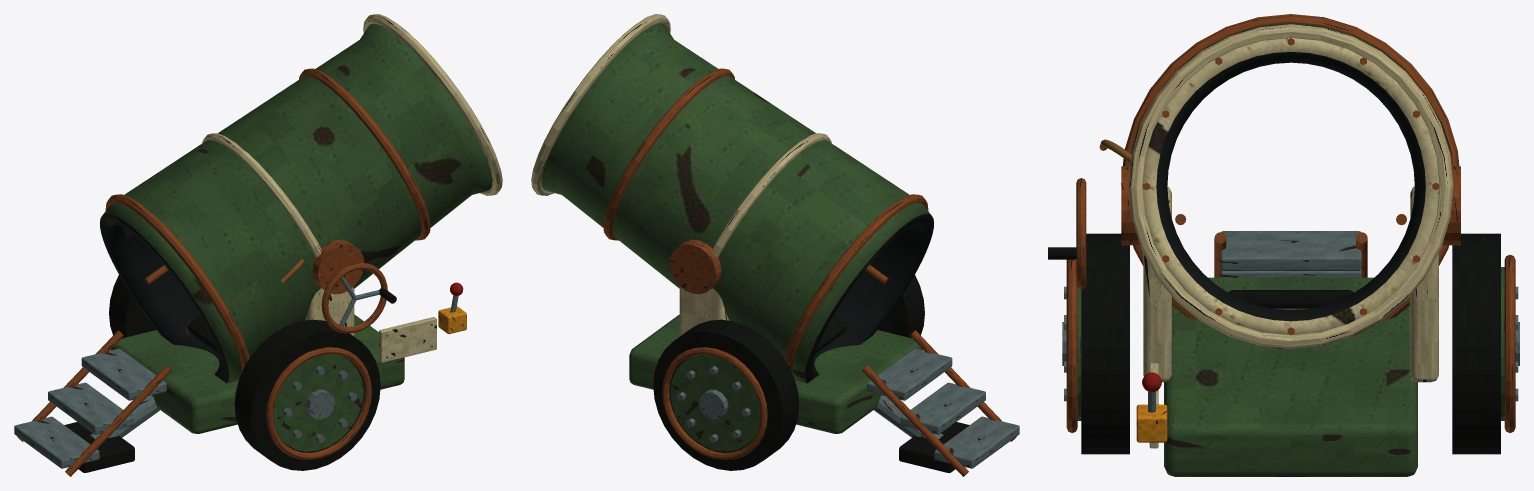
File: eq-crewcannon.glb
3 views of the same model, side by side, from view 1: azimuth 30°, elevation 25°; view 2: azimuth 150°, elevation 25°; view 3: azimuth 270°, elevation 25° (orthographic). The views are drawn at different scales.
Visible parts, largest first — view 1: Hollow cannon barrel, Rubber wheel, Carriage, Wheel plate, Barrel hoop.003, Wheel rim, Barrel hoop, Boarding step, Boarding step.001, Boarding step.002, Barrel hoop.002, Cream inset.013 (+11 smaller); view 2: Hollow cannon barrel, Carriage, Rubber wheel.001, Wheel plate.001, Barrel hoop.003, Wheel rim.001, Barrel hoop, Boarding step, Boarding step.001, Boarding step.002, Barrel hoop.002, Elevation axle.001 (+8 smaller); view 3: Carriage, Hollow cannon barrel, Barrel hoop.003, Rubber wheel.001, Rubber wheel, Boarding step.002, Barrel hoop, Trunnion support.001, Trunnion support, Wheel rim.001, Wheel rim, Passenger padding.002 (+7 smaller).
Boxes of the visible parts, x1,y1,x2,y2 form: Hollow cannon barrel: [100, 23, 492, 383]; Rubber wheel: [234, 319, 380, 470]; Carriage: [110, 314, 404, 433]; Wheel plate: [273, 354, 363, 451]; Barrel hoop.003: [363, 14, 502, 195]; Wheel rim: [266, 347, 371, 459]; Barrel hoop: [105, 194, 249, 372]; Boarding step: [14, 416, 99, 468]; Boarding step.001: [48, 382, 133, 434]; Boarding step.002: [81, 348, 166, 400]; Barrel hoop.002: [299, 68, 430, 240]; Cream inset.013: [379, 317, 436, 362]; Hollow cannon barrel: [541, 23, 933, 383]; Carriage: [629, 314, 923, 433]; Rubber wheel.001: [653, 319, 799, 470]; Wheel plate.001: [670, 354, 760, 451]; Barrel hoop.003: [531, 14, 670, 195]; Wheel rim.001: [662, 347, 767, 459]; Barrel hoop: [784, 194, 928, 372]; Boarding step: [934, 416, 1019, 468]; Boarding step.001: [900, 382, 985, 434]; Boarding step.002: [867, 348, 952, 400]; Barrel hoop.002: [603, 68, 734, 240]; Elevation axle.001: [669, 239, 721, 294]; Carriage: [1164, 277, 1417, 476]; Hollow cannon barrel: [1142, 23, 1439, 335]; Barrel hoop.003: [1128, 24, 1453, 348]; Rubber wheel.001: [1452, 233, 1500, 454]; Rubber wheel: [1081, 233, 1129, 454]; Boarding step.002: [1220, 231, 1361, 270]; Barrel hoop: [1121, 14, 1459, 319]; Trunnion support.001: [1410, 186, 1438, 382]; Trunnion support: [1143, 186, 1171, 382]; Wheel rim.001: [1504, 254, 1515, 432]; Wheel rim: [1066, 259, 1077, 432]; Passenger padding.002: [1228, 290, 1353, 308].
Bounding box in the file's own units: 3.38 × 2.63 × 2.14.
Materials: 9 (9 with a texture image).
